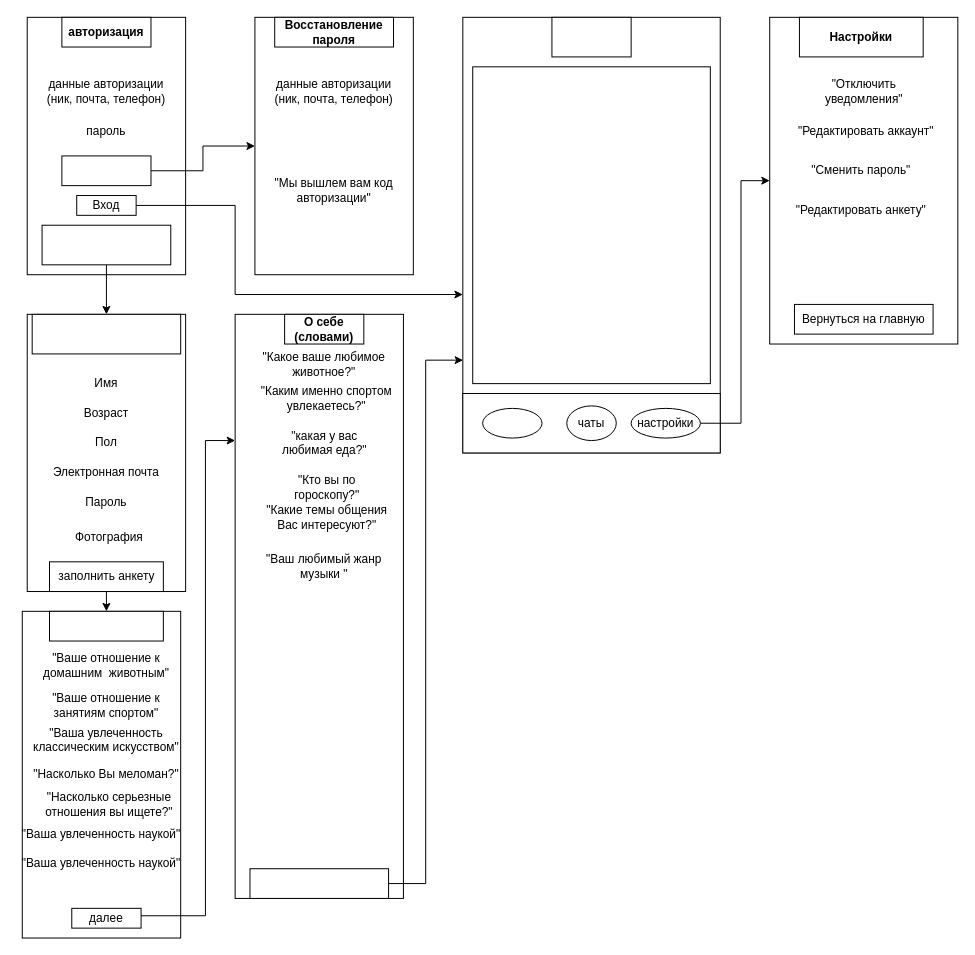
Some shapes in this 975 by 955 pixel diagram are drawn without their labels. The shapes that lost their labels are listed below. From the top down, each one's centre as x and y in pixels, then its label:
the point at 591,36: Главная страница
the point at 106,170: не помню пароль
the point at 106,244: "Все еще не с нами" Регистрация
the point at 591,225: поле с потенциальными партнерами
the point at 106,333: Регистрация обязательных данных
the point at 512,422: анкета
the point at 106,625: О себе (оценками от 1 до 10)
the point at 319,883: Завершить регитрацию и сохранить анкету
